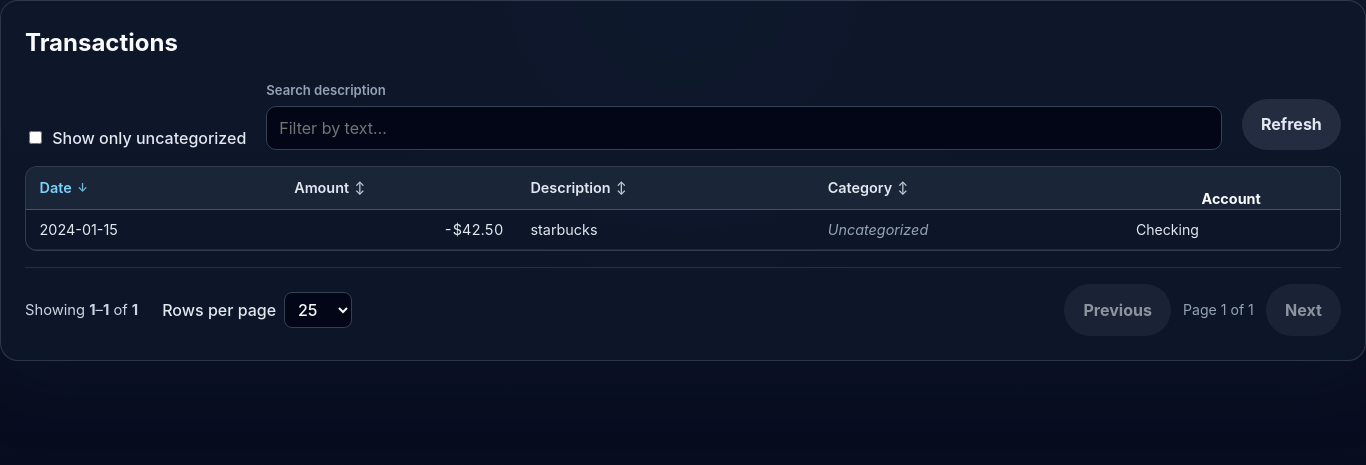
Test: TransactionsPage › expands the correction UI when a row is clicked
Step 1. Click the text "starbucks" → (564, 229), box [517, 210, 814, 250]
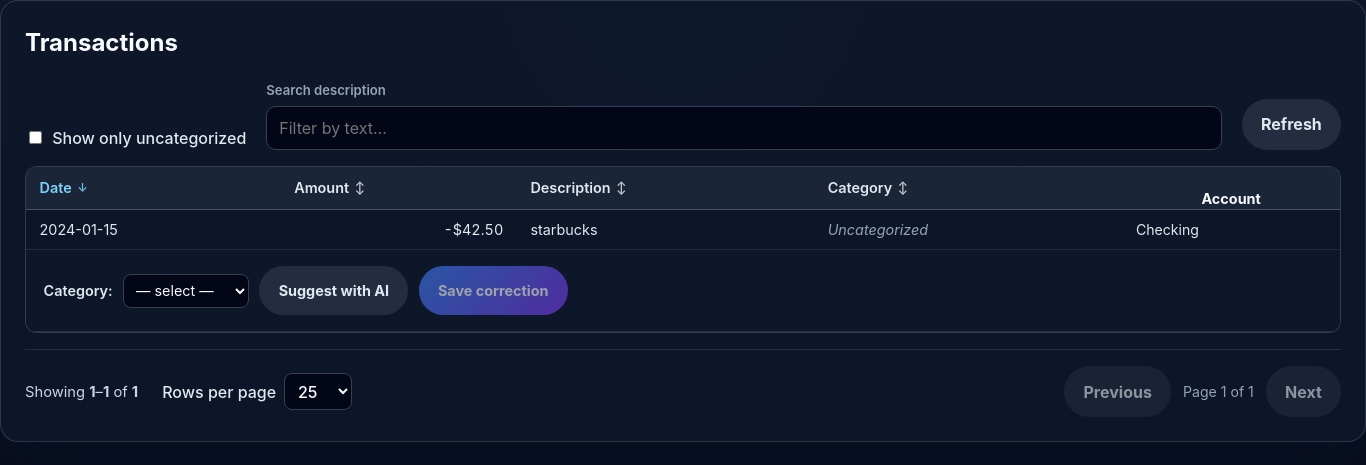
Result: the dropdown labelled "Category:" is shown at [123, 274, 249, 308]
